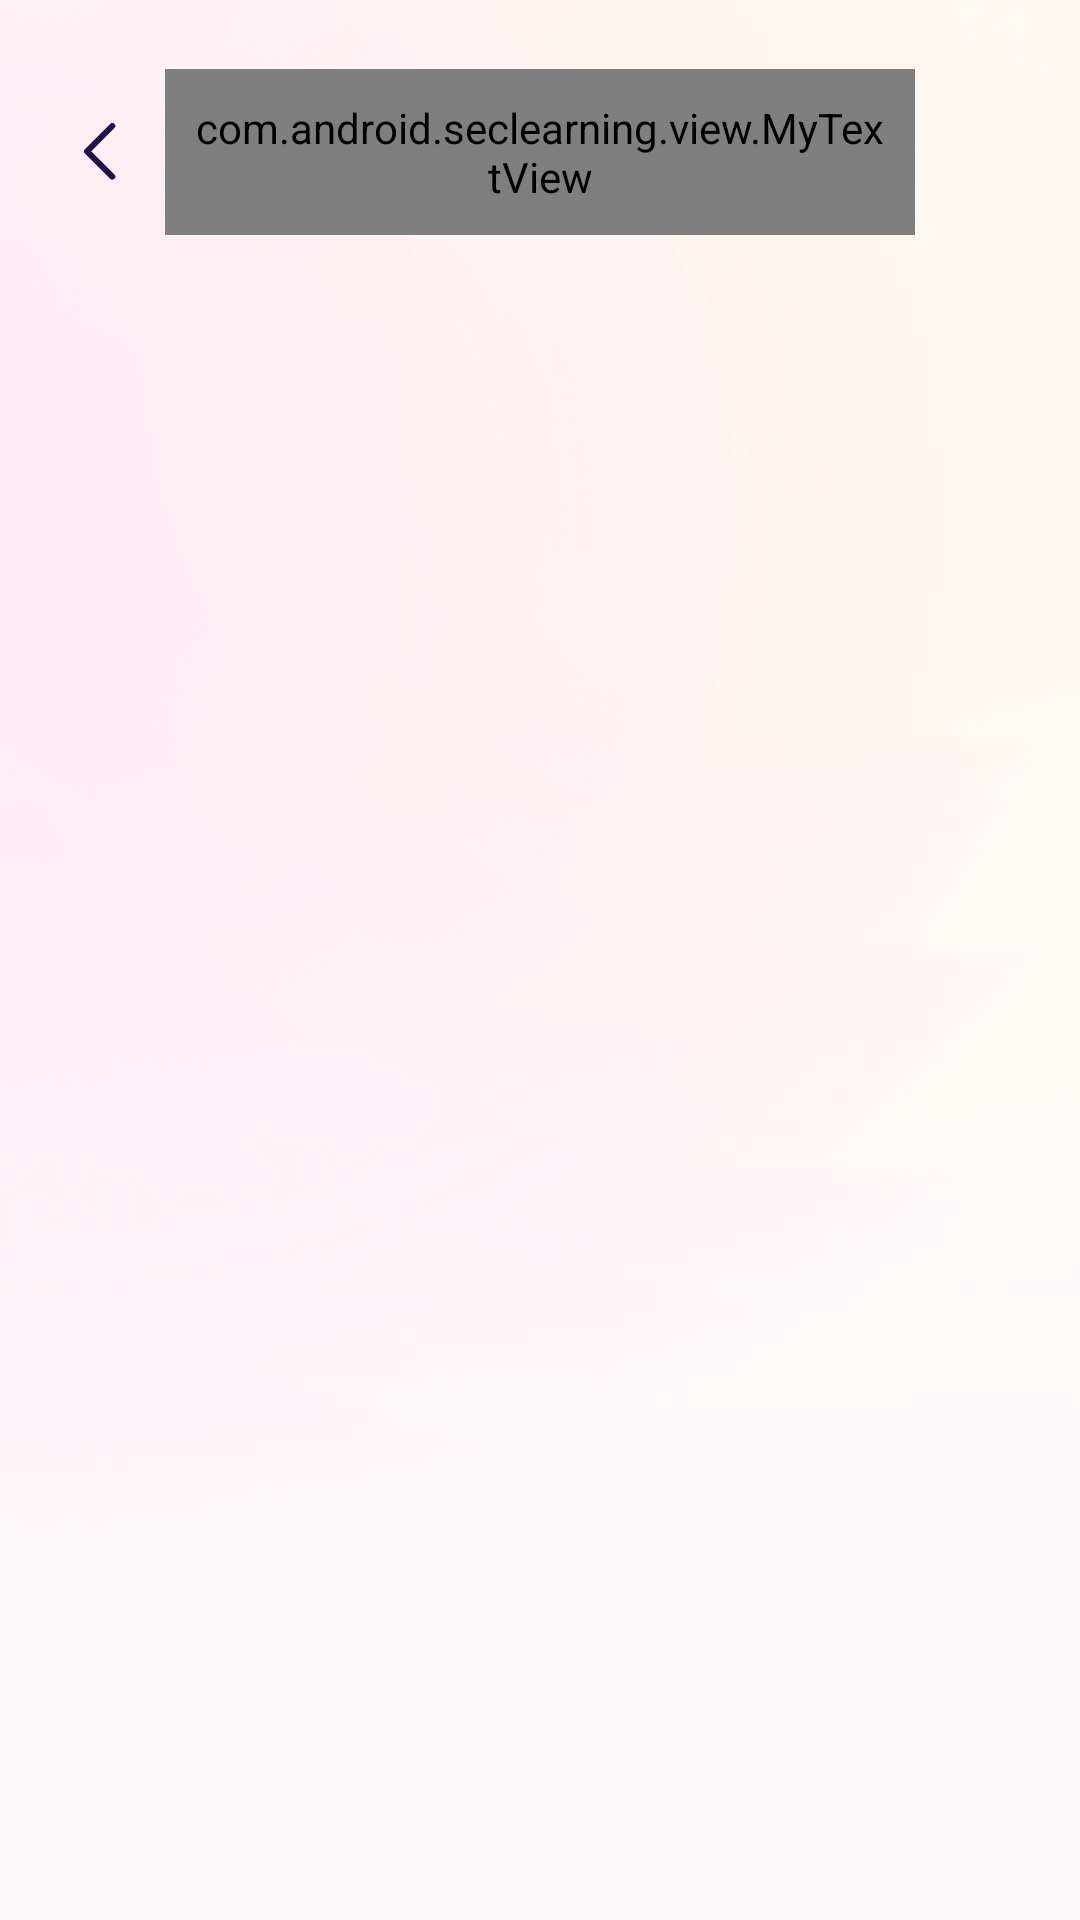

Where icons sit on this 1080 x 1920 app screen, as (x1, y1, x2, y2):
back: (84, 123, 116, 180)
